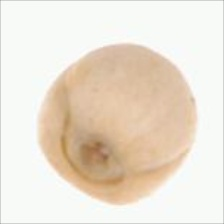L3: (60, 118, 128, 187)
L4: (38, 43, 196, 207)
